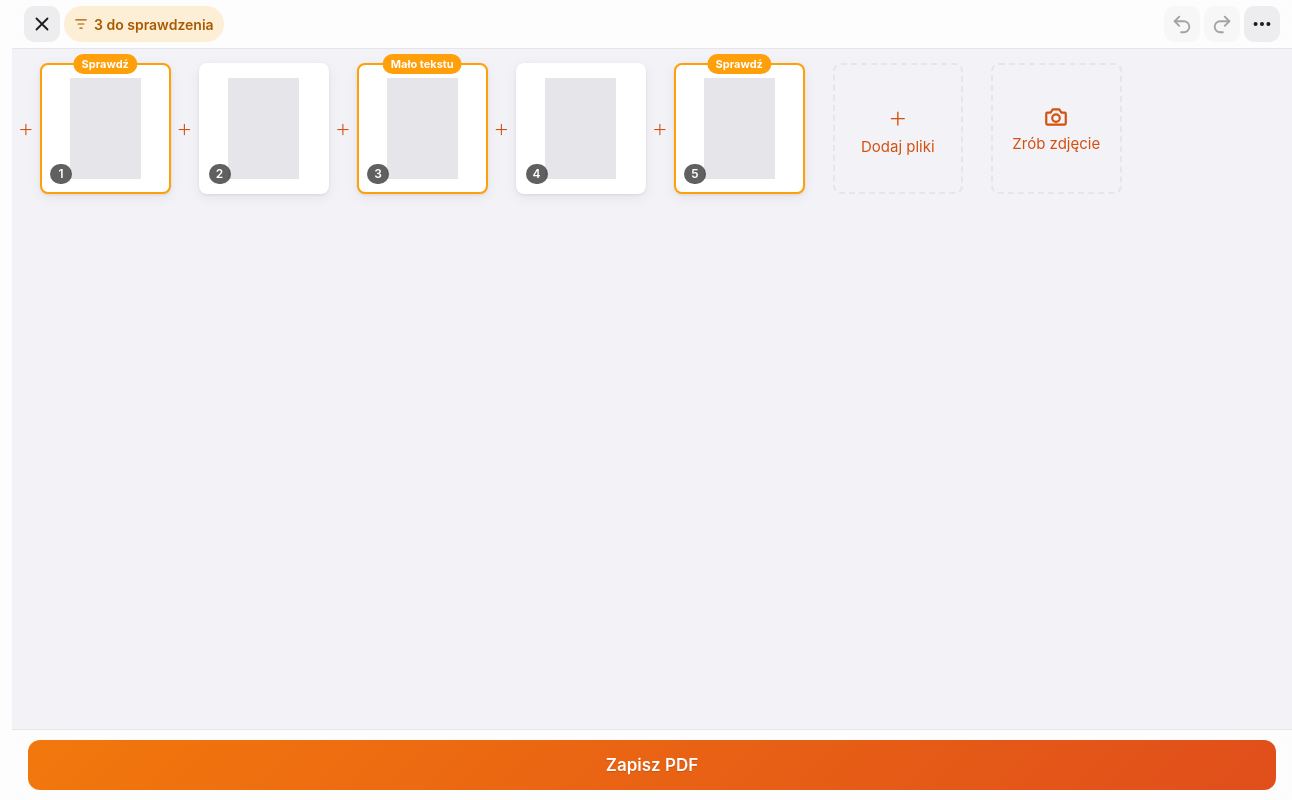
review grid › counts flagged pages and filters to them
Expected: the text "3 do sprawdzenia" is shown, x1=94 y1=16 x2=214 y2=32
Expected: the number of buttons "1 Sprawdź" is 5, x1=40 y1=63 x2=170 y2=194; x1=198 y1=63 x2=329 y2=194; x1=357 y1=63 x2=488 y2=194; x1=516 y1=63 x2=646 y2=194; x1=674 y1=63 x2=804 y2=194
Click the button with aria-label "Pokaż tylko te": (144, 24) x1=64 y1=6 x2=224 y2=42
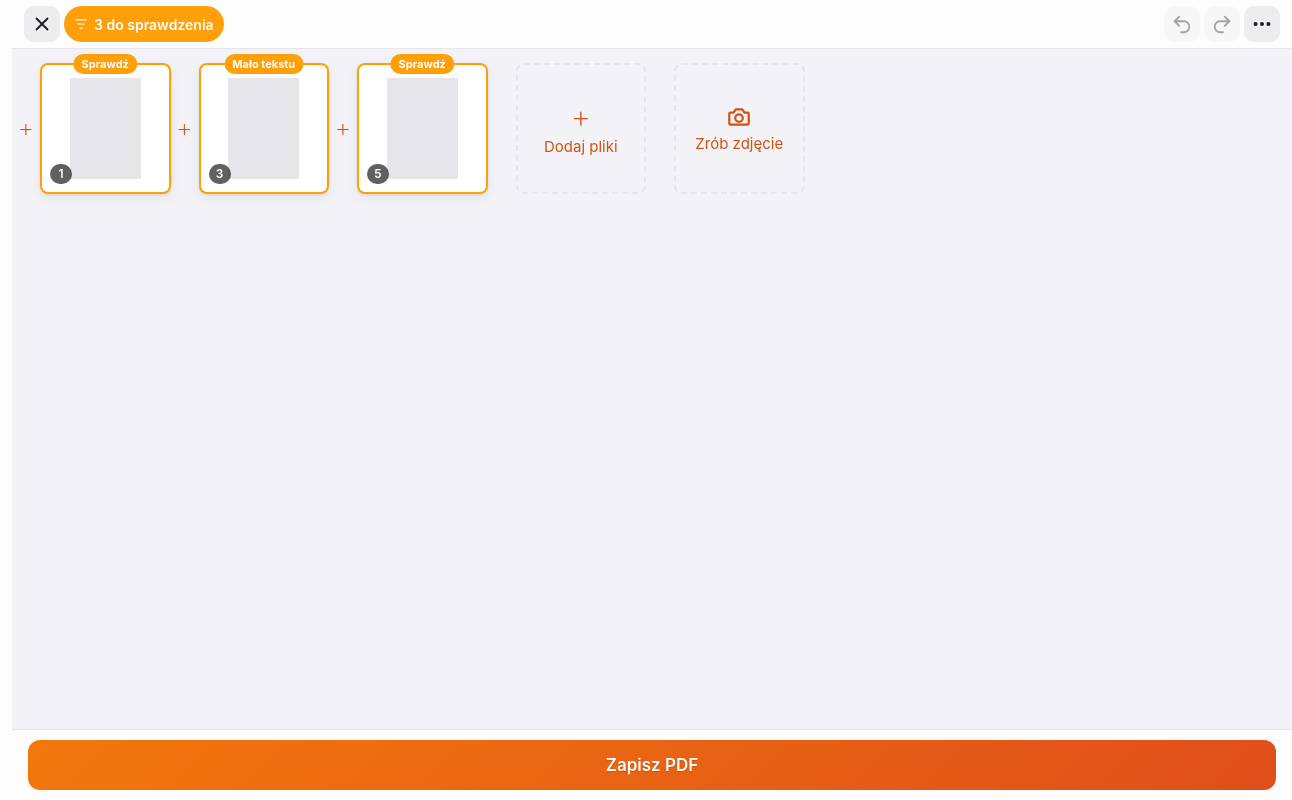
Expected: the number of buttons "1 Sprawdź" is 3, x1=40 y1=63 x2=170 y2=194; x1=198 y1=63 x2=329 y2=194; x1=357 y1=63 x2=488 y2=194
